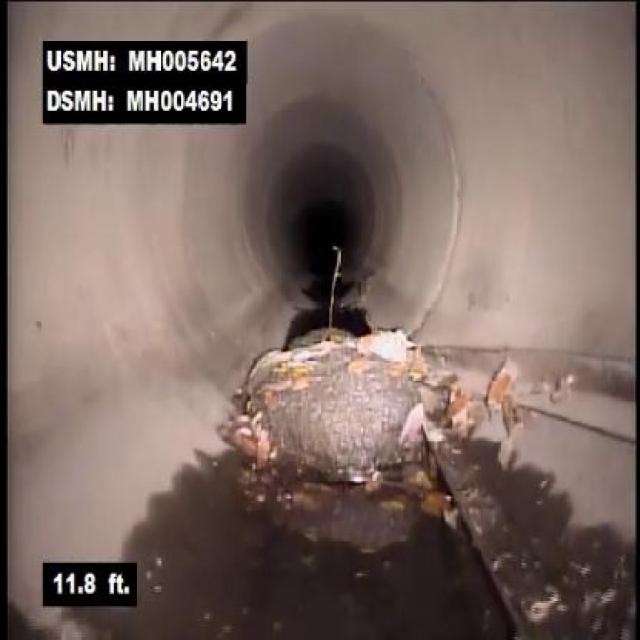Obstacle: (207, 274, 436, 489)
